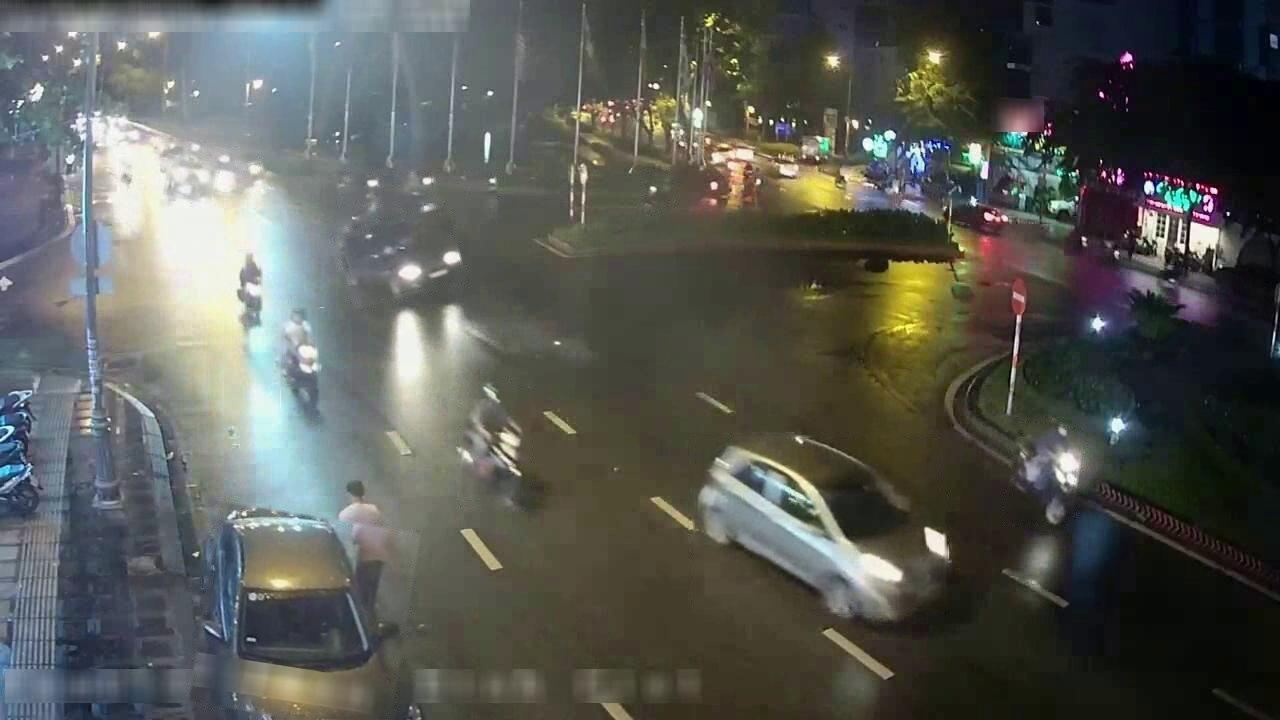Car: (698, 433, 952, 624), (192, 508, 416, 719), (338, 200, 464, 298), (1013, 426, 1081, 525), (165, 162, 213, 200), (160, 143, 185, 161)
Motorcycle: (0, 463, 39, 515)
Motorcyclist: (459, 384, 529, 504), (281, 309, 321, 411), (237, 252, 262, 326), (337, 174, 380, 207), (393, 170, 436, 202), (642, 175, 673, 211), (467, 174, 498, 196), (243, 161, 265, 186), (117, 157, 133, 189), (186, 140, 208, 162), (215, 152, 234, 168)
Pedestrian: (338, 480, 394, 612), (284, 343, 321, 417), (239, 253, 262, 287)
Sign: (1011, 277, 1026, 316)
